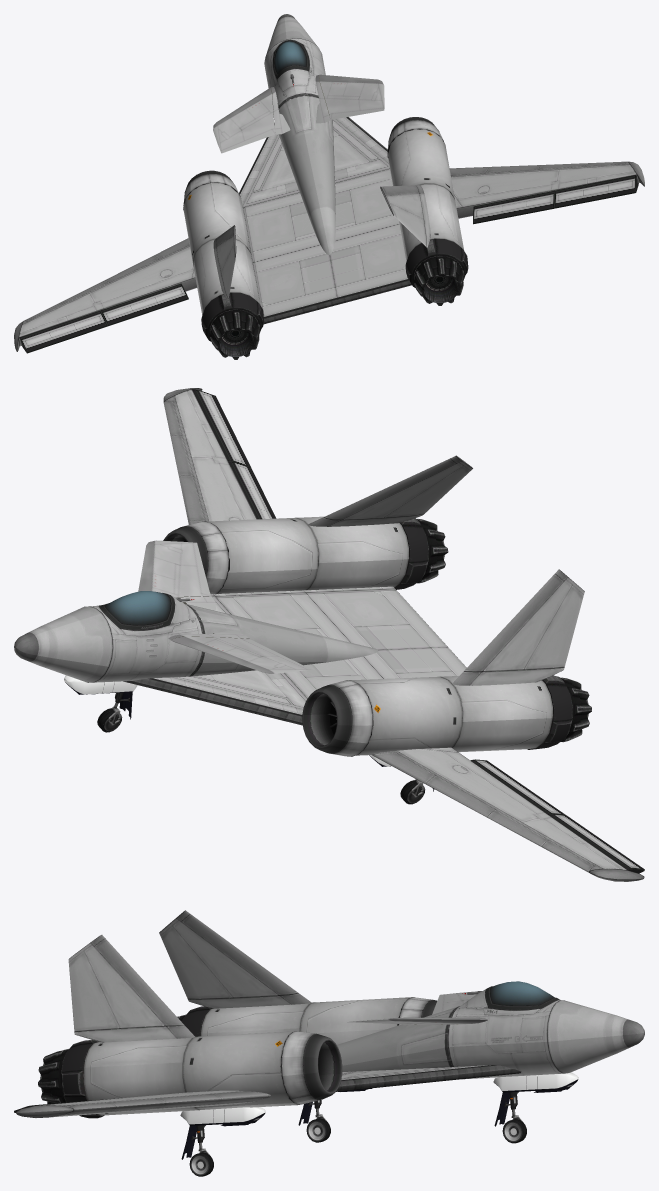
3 renders of one model, top to bottom at view 1: azimuth 30°, elevation 25°; view 2: azimuth 150°, elevation 25°; view 3: azimuth 270°, elevation 25°, orthographic. The views are drawn at different scales.
Parts seen in each view (by area): view 1: Connector2.002 (×2), swept.004 (×2), Elevon1.004 (×4), Cone.003, Structural1.002 (×2), obj_ctrlSrf.002 (×2), solid_rocket.002 (×2), fuselage_mk1.002, fuselage_mk1.003, Cockpit.001, obj_anchor.002 (×2), ctrlSrf.002 (×2) (+4 smaller); view 2: swept.004 (×2), Connector2.002 (×2), ctrlSrf.002 (×2), Cockpit.001, fuselage_mk1.003, fuselage_mk1.002, FanIntake.002 (×2), fuselage_mk1.004, fuselage_mk1.005, obj_ctrlSrf.002 (×2), Cone.002, Structural1.002 (+6 smaller); view 3: ctrlSrf.002 (×2), Cockpit.001, fuselage_mk1.003, fuselage_mk1.005, Cone.002, Cone.003, FanIntake.002 (×2), swept.004, fuselage_mk1.002, fuselage_mk1.004, Base.002 (×2), Structural1.002 (+5 smaller).
Boxes of the visible parts, box(x1,y1,x2,y2) form: Connector2.002 (×2): box(243, 169, 411, 324); swept.004 (×2): box(14, 161, 644, 351); Elevon1.004 (×4): box(19, 175, 638, 353); Cone.003: box(278, 93, 335, 254); Structural1.002 (×2): box(239, 117, 389, 207); obj_ctrlSrf.002 (×2): box(213, 74, 384, 153); solid_rocket.002 (×2): box(210, 256, 464, 359); fuselage_mk1.002: box(183, 182, 250, 266); fuselage_mk1.003: box(388, 129, 454, 198); Cockpit.001: box(264, 38, 325, 117); obj_anchor.002 (×2): box(201, 238, 468, 341); ctrlSrf.002 (×2): box(216, 185, 426, 298); swept.004 (×2): box(163, 388, 644, 881); Connector2.002 (×2): box(213, 586, 466, 698); ctrlSrf.002 (×2): box(324, 455, 584, 671); Cockpit.001: box(91, 591, 202, 682); fuselage_mk1.003: box(206, 517, 318, 593); fuselage_mk1.002: box(348, 676, 462, 755); FanIntake.002 (×2): box(163, 521, 373, 756); fuselage_mk1.004: box(441, 676, 552, 752); fuselage_mk1.005: box(297, 516, 408, 590); obj_ctrlSrf.002 (×2): box(138, 540, 311, 673); Cone.002: box(14, 606, 112, 682); Structural1.002: box(123, 670, 307, 725); ctrlSrf.002 (×2): box(68, 910, 297, 1031); Cockpit.001: box(448, 981, 562, 1078); fuselage_mk1.003: box(182, 1031, 298, 1109); fuselage_mk1.005: box(84, 1036, 199, 1115); Cone.002: box(547, 1000, 644, 1073); Cone.003: box(337, 1006, 464, 1079); FanIntake.002 (×2): box(280, 997, 436, 1104); swept.004: box(16, 1090, 270, 1117); fuselage_mk1.002: box(300, 997, 414, 1044); fuselage_mk1.004: box(201, 1002, 314, 1036); Base.002 (×2): box(74, 993, 312, 1042); Structural1.002: box(336, 1065, 521, 1091).
Size of what is drawn, in the model's own units: 12.07 by 4.47 by 10.66.
Materials: 16 (16 with a texture image).
